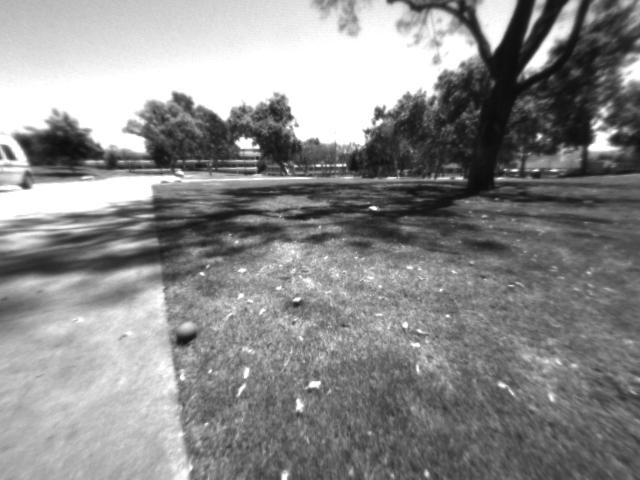dogtoy: (170, 312, 204, 348)
